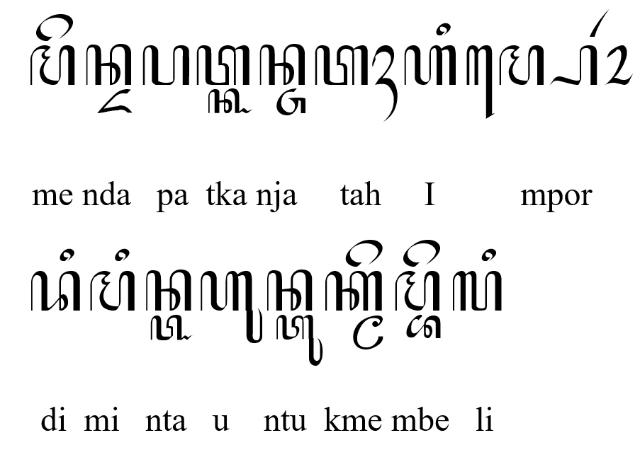_b: (406, 314, 442, 340)
_d: (96, 89, 132, 113)
_h1: (372, 44, 398, 124)
_j: (276, 88, 306, 116)
_k: (208, 89, 252, 115)
_m: (352, 316, 384, 350)
_p: (549, 44, 597, 86)
_r1: (590, 9, 610, 37)
_t: (151, 315, 193, 341)
d: (30, 270, 80, 312)
e: (36, 13, 74, 42), (345, 238, 383, 267), (402, 239, 441, 267)
e1: (466, 45, 494, 120)
h: (405, 45, 457, 87)
hu: (200, 271, 264, 345)
i: (60, 248, 74, 264), (115, 248, 131, 262), (482, 248, 496, 264), (436, 22, 450, 36)
k: (324, 272, 384, 312)
l: (452, 270, 503, 312)
m: (499, 42, 545, 86), (28, 44, 74, 86), (90, 270, 136, 312), (394, 270, 440, 312)
n: (266, 269, 314, 313), (258, 44, 306, 86), (86, 44, 132, 86), (145, 270, 191, 312)
o: (605, 44, 633, 86)
p: (142, 45, 190, 88)
t: (197, 45, 251, 87), (315, 44, 369, 86)
tu: (276, 315, 322, 366)
